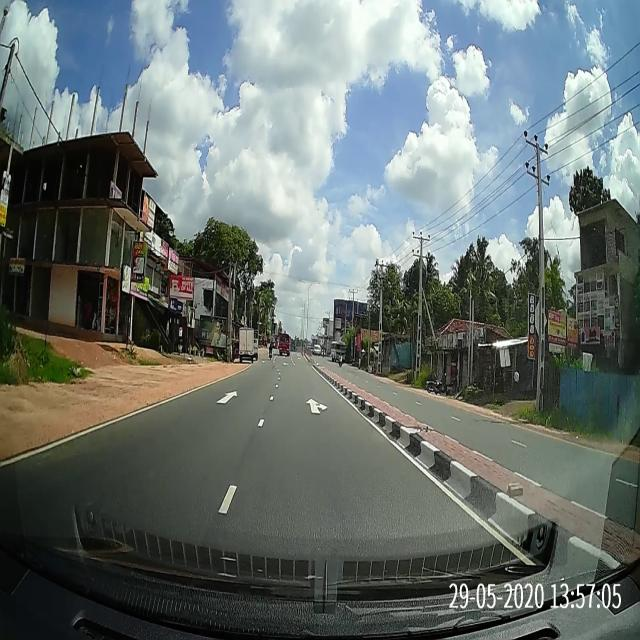Strelka vpered: (214, 390, 238, 405)
Strelka vpered - vpravo: (304, 397, 330, 415)
